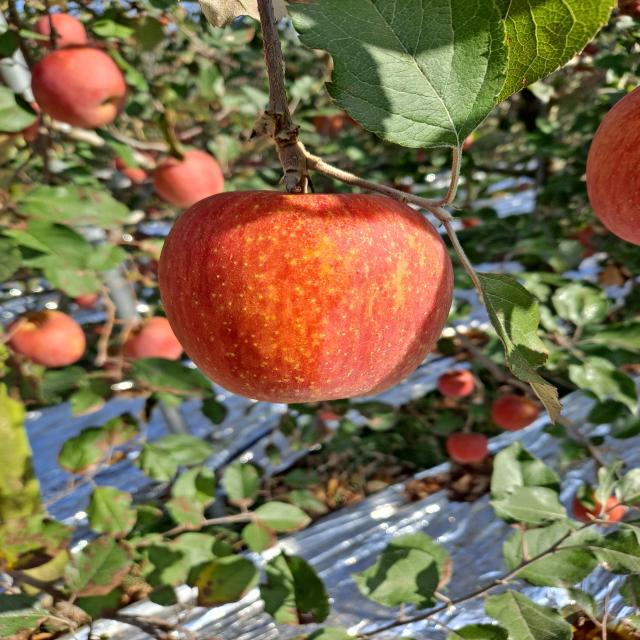fresh: (153, 182, 470, 415)
